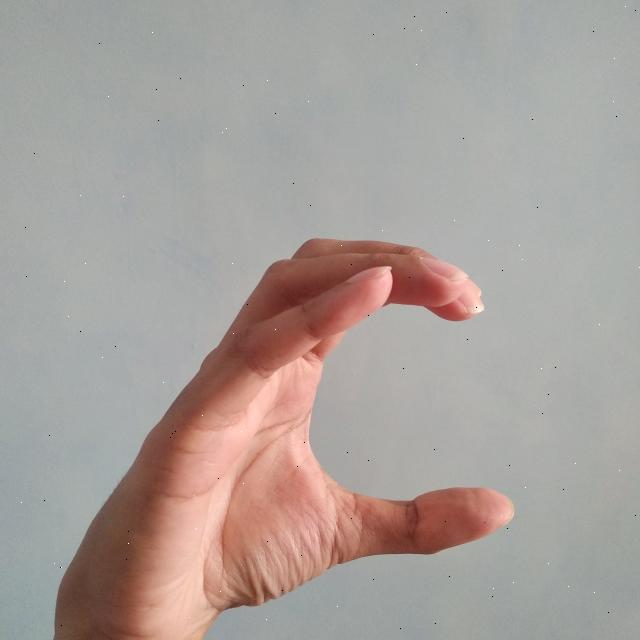C: (55, 235, 517, 640)
